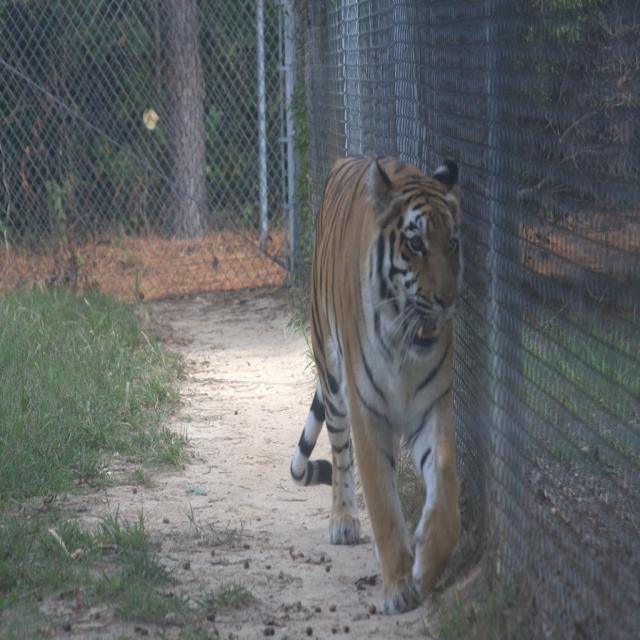Tiger: (288, 150, 462, 617)
